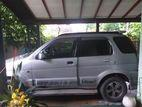car: (6, 32, 139, 103)
